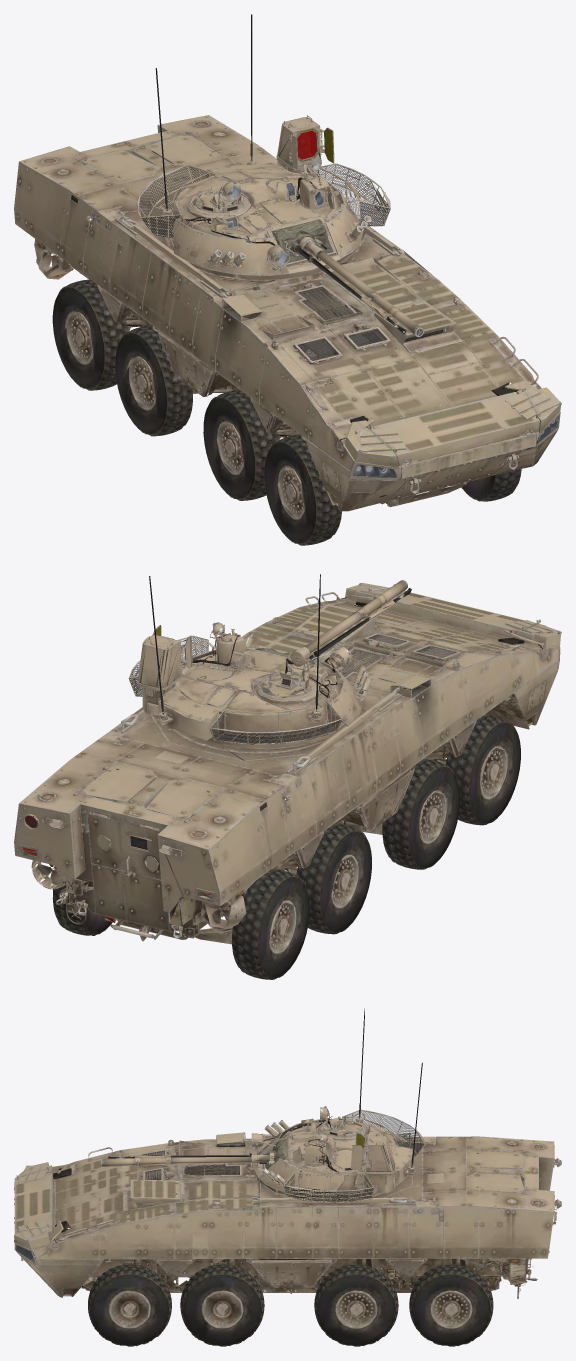
The model's file is dxb-bmp.glb.
3 views of the same model, one above another, from view 1: azimuth 30°, elevation 25°; view 2: azimuth 150°, elevation 25°; view 3: azimuth 270°, elevation 25° (orthographic). The views are drawn at different scales.
Parts seen in each view (by area): view 1: Object_23, Object_24, Object_14, Object_18, Object_19, Object_22, Object_26, Object_15, Object_27, Object_8, Object_16, Object_11 (+6 smaller); view 2: Object_23, Object_24, Object_14, Object_26, Object_18, Object_19, Object_22, Object_16, Object_15, Object_27, Object_8, Object_11 (+5 smaller); view 3: Object_23, Object_24, Object_21, Object_20, Object_14, Object_26, Object_22, Object_15, Object_8, Object_27, Object_11, Object_16 (+1 smaller).
Part boxes in pixels (x1,y1,x2,y2): Object_23: [14, 115, 560, 510]; Object_24: [14, 117, 558, 511]; Object_14: [162, 119, 371, 289]; Object_18: [52, 279, 192, 436]; Object_19: [203, 390, 341, 545]; Object_22: [193, 220, 561, 502]; Object_26: [18, 134, 531, 507]; Object_15: [276, 115, 390, 225]; Object_27: [36, 213, 458, 441]; Object_8: [139, 165, 390, 237]; Object_16: [137, 158, 321, 267]; Object_11: [283, 237, 423, 337]; Object_23: [14, 592, 560, 932]; Object_24: [14, 592, 559, 932]; Object_14: [140, 633, 372, 760]; Object_26: [29, 632, 543, 939]; Object_18: [232, 823, 371, 979]; Object_19: [382, 714, 520, 869]; Object_22: [49, 583, 561, 941]; Object_16: [189, 622, 351, 744]; Object_15: [128, 625, 246, 716]; Object_27: [37, 604, 543, 938]; Object_8: [129, 637, 341, 744]; Object_11: [261, 580, 411, 691]; Object_23: [14, 1132, 557, 1298]; Object_24: [14, 1135, 557, 1297]; Object_21: [88, 1264, 317, 1346]; Object_20: [314, 1264, 493, 1346]; Object_14: [252, 1117, 415, 1205]; Object_26: [84, 1137, 553, 1293]; Object_22: [14, 1162, 561, 1289]; Object_15: [283, 1133, 397, 1202]; Object_8: [284, 1111, 424, 1202]; Object_27: [52, 1133, 561, 1290]; Object_11: [101, 1140, 275, 1166]; Object_16: [251, 1106, 424, 1168].
Bounding box in the file's own units: 2.99 × 4.61 × 8.44.
Materials: 14 (13 with a texture image).
